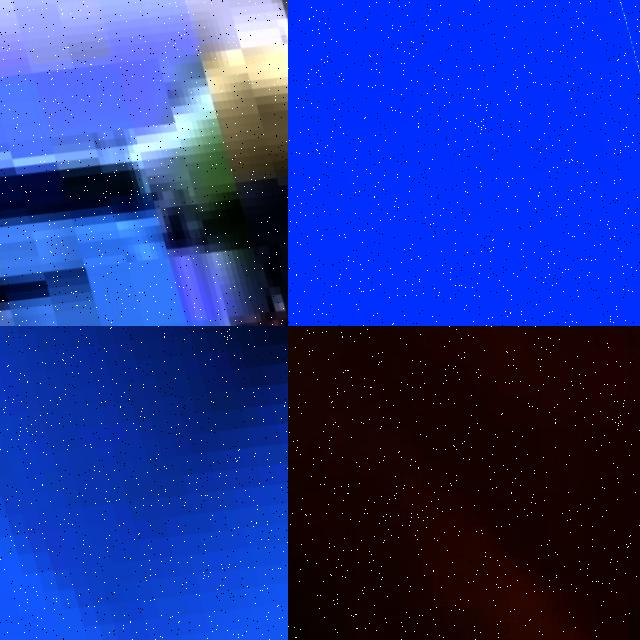0: (0, 0, 288, 326)
drone: (288, 0, 640, 326), (0, 326, 288, 640)
